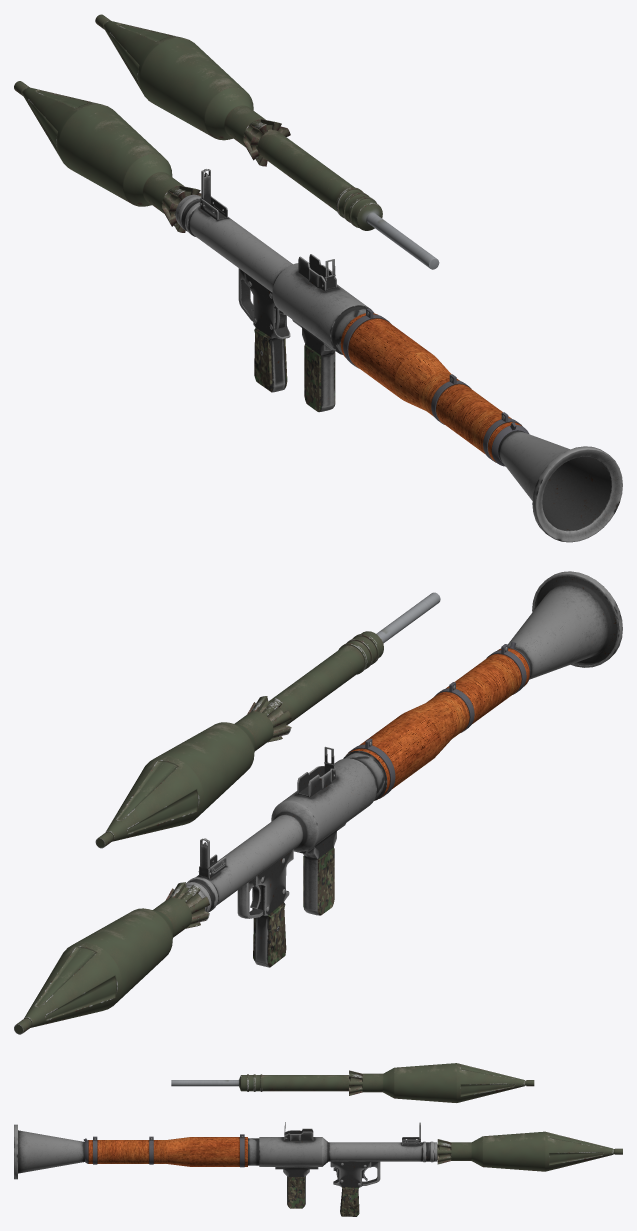
The model's file is rpg.glb.
The picture shows the model from 3 angles, top to bottom: view 1: azimuth 30°, elevation 25°; view 2: azimuth 150°, elevation 25°; view 3: azimuth 270°, elevation 25°; orthographic projection. The views are drawn at different scales.
Parts seen in each view (by area): view 1: Cylinder_0, Cylinder.001_8, Cylinder.004_4, Cube_1, Cylinder.002_3, Cube.007_6, Cylinder.005_5; view 2: Cylinder_0, Cylinder.001_8, Cylinder.004_4, Cube_1, Cylinder.002_3, Cube.007_6, Cylinder.005_5; view 3: Cylinder_0, Cylinder.001_8, Cylinder.004_4, Cube_1, Cylinder.002_3, Cube.007_6, Cylinder.005_5.
Boxes of the visible parts, left/top/right/bottom form: Cylinder_0: left=175, top=194, right=622, bottom=542; Cylinder.001_8: left=95, top=14, right=439, bottom=269; Cylinder.004_4: left=14, top=81, right=201, bottom=232; Cube_1: left=238, top=268, right=335, bottom=412; Cylinder.002_3: left=254, top=328, right=335, bottom=411; Cube.007_6: left=200, top=169, right=336, bottom=291; Cylinder.005_5: left=343, top=308, right=529, bottom=466; Cylinder_0: left=186, top=571, right=622, bottom=912; Cylinder.001_8: left=95, top=592, right=440, bottom=848; Cylinder.004_4: left=14, top=882, right=209, bottom=1034; Cube_1: left=237, top=823, right=345, bottom=967; Cylinder.002_3: left=253, top=847, right=334, bottom=967; Cube.007_6: left=199, top=746, right=336, bottom=878; Cylinder.005_5: left=347, top=642, right=530, bottom=798; Cylinder_0: left=14, top=1124, right=437, bottom=1179; Cylinder.001_8: left=171, top=1063, right=534, bottom=1102; Cylinder.004_4: left=437, top=1131, right=622, bottom=1171; Cube_1: left=275, top=1161, right=380, bottom=1215; Cylinder.002_3: left=287, top=1177, right=359, bottom=1216; Cube.007_6: left=284, top=1122, right=420, bottom=1145; Cylinder.005_5: left=83, top=1134, right=244, bottom=1167.
Size of the model in its own units: 0.729 by 2.19 by 8.08.
Materials: 10 (10 with a texture image).
